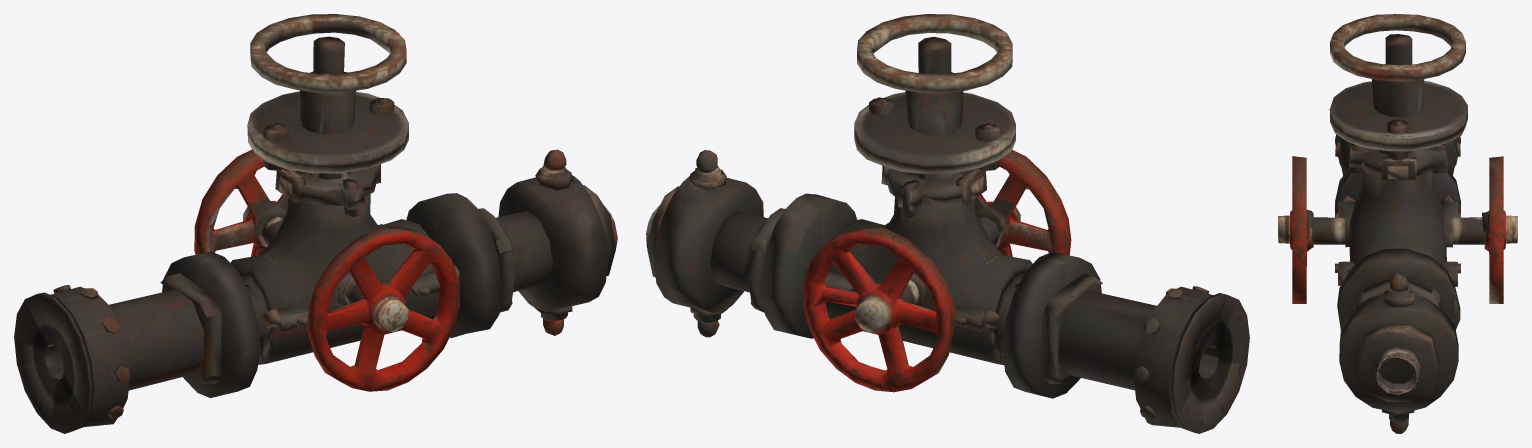
File: valve.glb
3 views of the same model, side by side, from view 1: azimuth 30°, elevation 25°; view 2: azimuth 150°, elevation 25°; view 3: azimuth 270°, elevation 25° (orthographic). The views are drawn at different scales.
Bounding box in the file's own units: 0.9561 × 0.5708 × 0.4164.
1 material, 1 textured.
